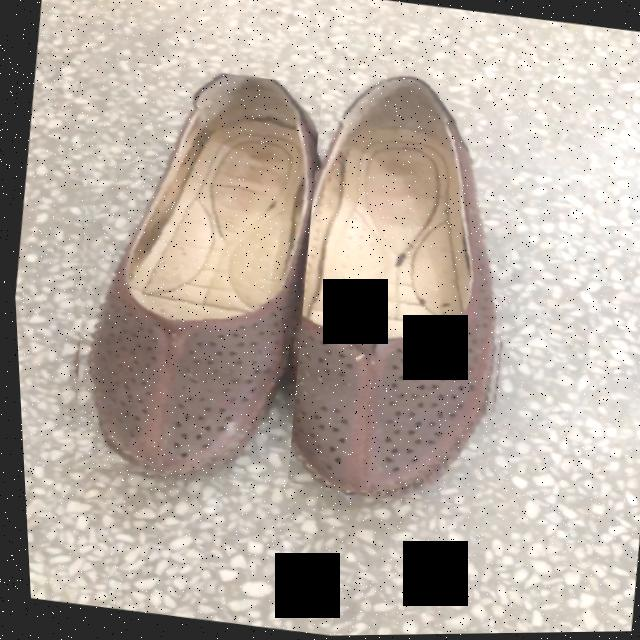shoe: (72, 77, 307, 478), (285, 72, 490, 497)
